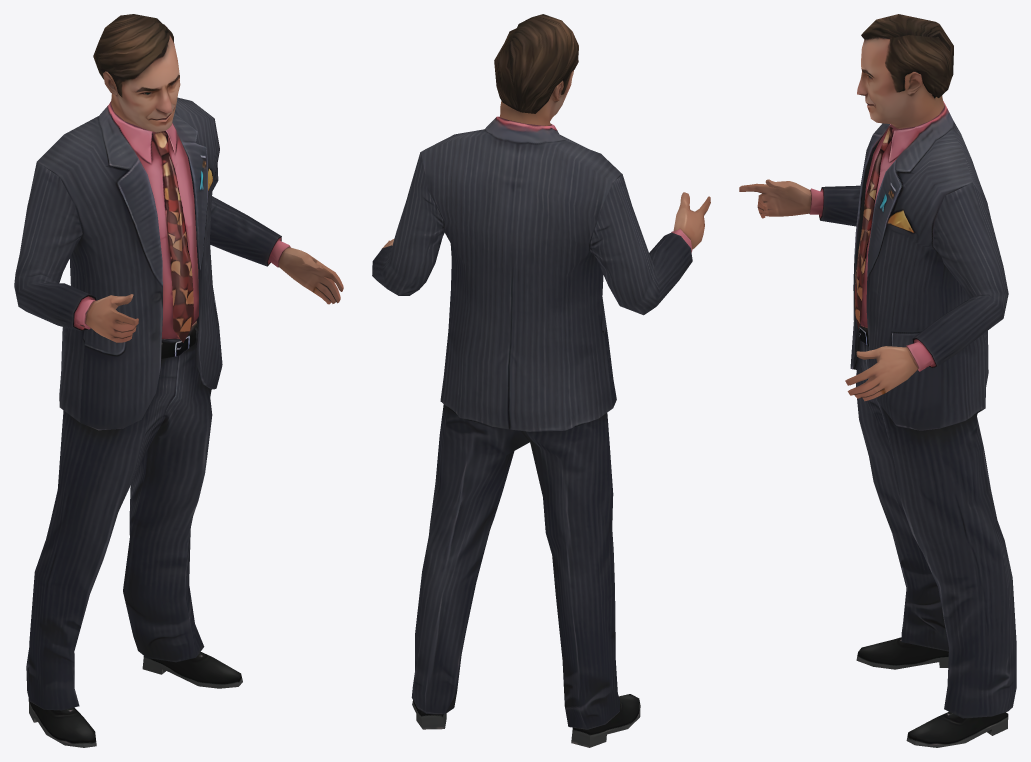
Rendered from saul.gltf.
3 renders of one model, left to right at view 1: azimuth 30°, elevation 25°; view 2: azimuth 150°, elevation 25°; view 3: azimuth 270°, elevation 25°, orthographic. The views are drawn at different scales.
Parts seen in each view (by area): view 1: Object_2; view 2: Object_2; view 3: Object_2.
Part boxes in pixels (x1=…): Object_2: x1=14, y1=14, x2=343, y2=747; Object_2: x1=372, y1=14, x2=710, y2=747; Object_2: x1=739, y1=14, x2=1016, y2=747.
Size of the model in its own units: 0.8277 by 1.85 by 0.683.
Materials: 1 (1 with a texture image).
